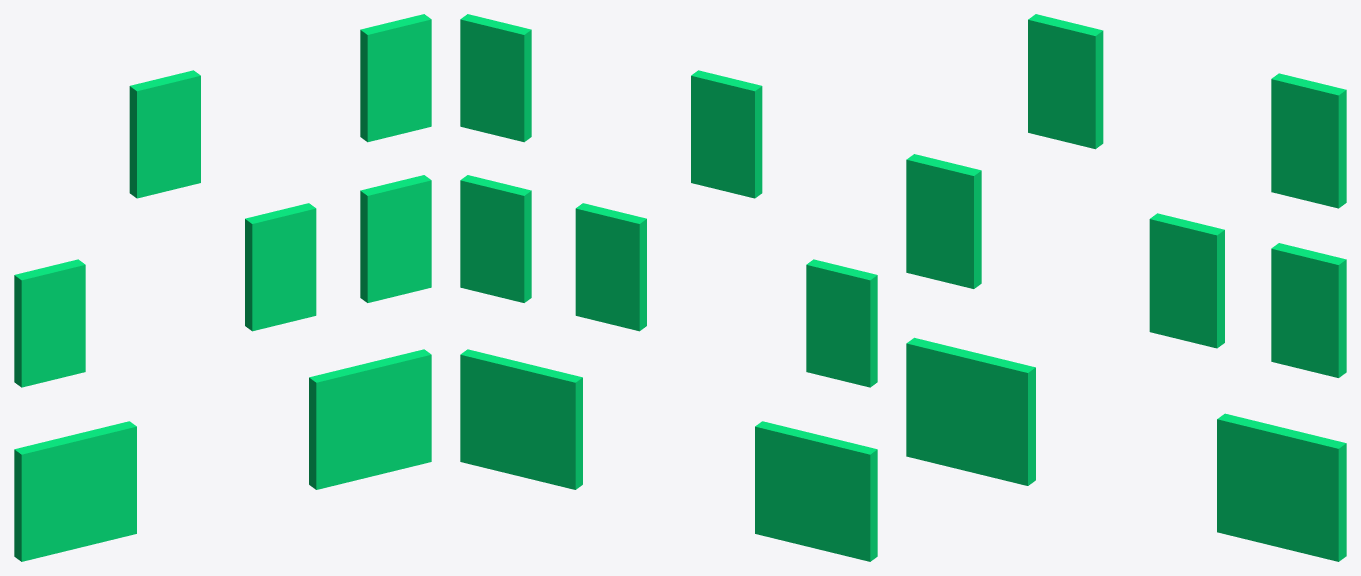
Rendered from Atletics vetri.obj.
The picture shows the model from 3 angles, left to right: view 1: azimuth 30°, elevation 25°; view 2: azimuth 150°, elevation 25°; view 3: azimuth 330°, elevation 25°; orthographic projection. The views are drawn at different scales.
Bounding box in the file's own units: 3.2 × 3.3 × 0.1.
1 material, 1 textured.
